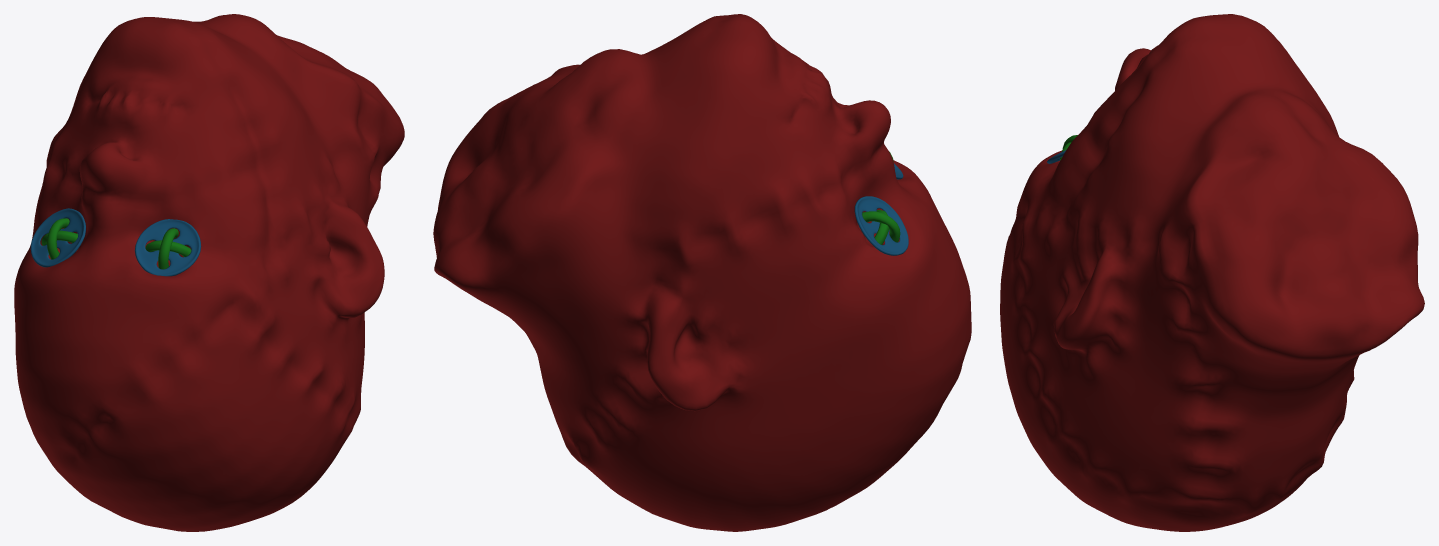
Rendered from Head texture.fbx.
3 views of the same model, side by side, from view 1: azimuth 30°, elevation 25°; view 2: azimuth 150°, elevation 25°; view 3: azimuth 270°, elevation 25° (orthographic). The views are drawn at different scales.
Parts seen in each view (by area): view 1: PM3D_Sphere3D1; view 2: PM3D_Sphere3D1; view 3: PM3D_Sphere3D1.
Boxes of the visible parts, x1,y1,x2,y2 form: PM3D_Sphere3D1: (14, 14, 404, 531); PM3D_Sphere3D1: (433, 14, 971, 531); PM3D_Sphere3D1: (1000, 14, 1424, 531).
Size of the model in its own units: 4.14 by 4.54 by 3.59.
